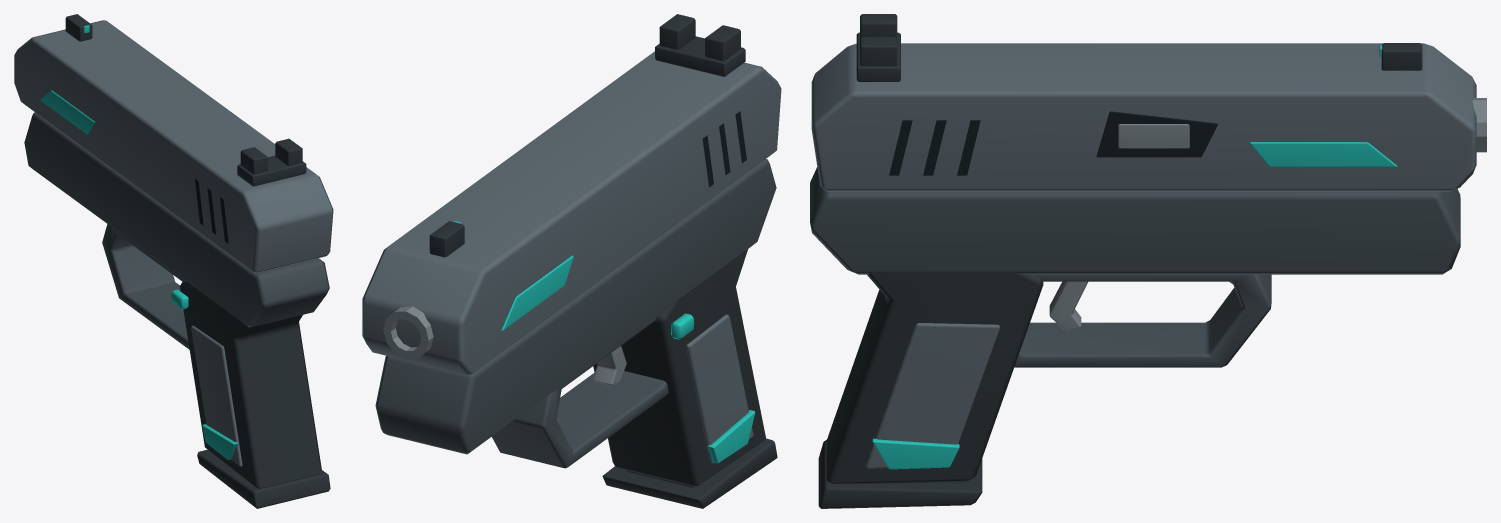
Rendered from Compact_Pistol_01.glb.
3 renders of one model, left to right at view 1: azimuth 30°, elevation 25°; view 2: azimuth 150°, elevation 25°; view 3: azimuth 270°, elevation 25°, orthographic. The views are drawn at different scales.
Visible parts, largest first — view 1: Pistol_Slide, Pistol_Body, Pistol_Grip, Pistol_Trigger_Guard, Pistol_Grip_Panel_L, Pistol_Magazine_Base, Pistol_Sight_Rear_Base, Pistol_Slide_Accent_L, Pistol_Grip_Accent_L, Pistol_Sight_Rear_R, Pistol_Sight_Rear_L, Pistol_Slide_Serrations_L (+1 smaller); view 2: Pistol_Slide, Pistol_Body, Pistol_Grip, Pistol_Trigger_Guard, Pistol_Grip_Panel_L, Pistol_Magazine_Base, Pistol_Sight_Rear_Base, Pistol_Slide_Accent_L, Pistol_Barrel, Pistol_Grip_Accent_L, Pistol_Sight_Rear_R, Pistol_Sight_Rear_L (+3 smaller); view 3: Pistol_Slide, Pistol_Body, Pistol_Grip, Pistol_Trigger_Guard, Pistol_Grip_Panel_R, Pistol_Magazine_Base, Pistol_Slide_Accent_R, Pistol_Ejection_Port, Pistol_Grip_Accent_R, Pistol_Slide_Serrations_R, Pistol_Chamber, Pistol_Trigger (+4 smaller).
Part boxes in pixels (x1,y1,x2,y2): Pistol_Slide: (14,20,333,273); Pistol_Body: (24,112,329,327); Pistol_Grip: (180,280,321,488); Pistol_Trigger_Guard: (102,224,189,349); Pistol_Grip_Panel_L: (191,325,242,466); Pistol_Magazine_Base: (197,449,330,508); Pistol_Sight_Rear_Base: (237,155,306,186); Pistol_Slide_Accent_L: (40,90,95,134); Pistol_Grip_Accent_L: (202,424,238,459); Pistol_Sight_Rear_R: (275,138,302,165); Pistol_Sight_Rear_L: (240,147,267,174); Pistol_Slide_Serrations_L: (195,179,228,243); Pistol_Slide: (362,51,781,375); Pistol_Body: (375,159,776,454); Pistol_Grip: (593,249,766,487); Pistol_Trigger_Guard: (492,316,668,468); Pistol_Grip_Panel_L: (686,314,753,463); Pistol_Magazine_Base: (602,438,777,508); Pistol_Sight_Rear_Base: (655,36,745,76); Pistol_Slide_Accent_L: (501,255,573,330); Pistol_Barrel: (383,306,433,358); Pistol_Grip_Accent_L: (707,410,755,463); Pistol_Sight_Rear_R: (659,14,695,49); Pistol_Sight_Rear_L: (705,25,740,60); Pistol_Slide: (811,43,1476,191); Pistol_Body: (810,167,1460,274); Pistol_Grip: (826,272,1043,483); Pistol_Trigger_Guard: (1014,274,1271,367); Pistol_Grip_Panel_R: (866,323,1000,468); Pistol_Magazine_Base: (818,439,982,508); Pistol_Slide_Accent_R: (1250,142,1397,166); Pistol_Ejection_Port: (1096,111,1217,157); Pistol_Grip_Accent_R: (872,438,959,469); Pistol_Slide_Serrations_R: (889,120,980,175); Pistol_Chamber: (1118,124,1189,148); Pistol_Trigger: (1049,281,1087,330).
Bounding box in the file's own units: 0.039 × 0.148 × 0.1992.
